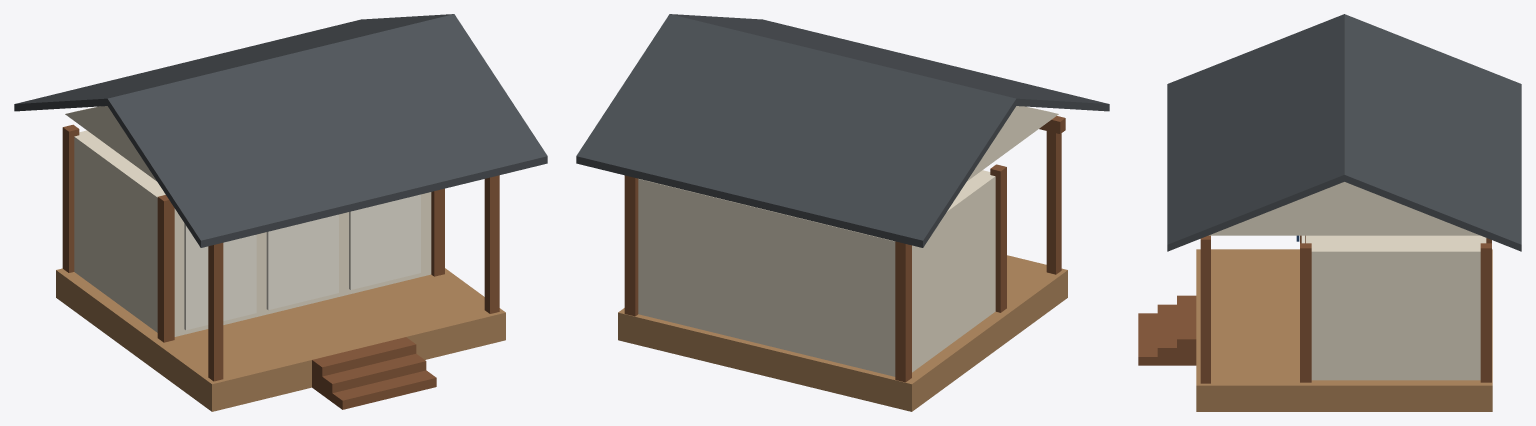
3 views of the same model, side by side, from view 1: azimuth 30°, elevation 25°; view 2: azimuth 150°, elevation 25°; view 3: azimuth 270°, elevation 25° (orthographic). The views are drawn at different scales.
Visible parts, largest first — view 1: roof, floor, room, shoji_1, shoji_2, shoji_0, pillar_0_0, veranda_post_0, veranda_post_1, steps_3, steps_2, steps_1 (+3 smaller); view 2: roof, room, floor, pillar_0_1, veranda_post_0, pillar_1_1, gable_l, pillar_0_0; view 3: roof, room, floor, gable_r, pillar_1_0, pillar_1_1, veranda_post_1, steps_3, steps_2, steps_1.
Part boxes in pixels (x1,y1,x2,y2): roof: (14,14,547,247); floor: (56,268,505,411); room: (74,130,431,336); shoji_1: (266,214,338,310); shoji_2: (349,194,420,289); shoji_0: (184,223,256,330); pillar_0_0: (157,195,174,342); veranda_post_0: (208,243,223,381); veranda_post_1: (484,175,499,313); steps_3: (312,337,416,394); steps_2: (322,353,426,401); steps_1: (332,370,436,409); roof: (576,14,1109,247); room: (638,170,995,376); floor: (618,255,1067,411); pillar_0_1: (895,241,911,382); veranda_post_0: (1046,131,1061,274); pillar_1_1: (624,175,638,316); gable_l: (967,106,1058,181); pillar_0_0: (990,164,1006,312); roof: (1167,14,1521,251); room: (1305,235,1486,380); floor: (1196,249,1492,411); gable_r: (1209,182,1479,235); pillar_1_0: (1300,243,1311,382); pillar_1_1: (1480,243,1491,382); veranda_post_1: (1200,251,1210,383); steps_3: (1177,295,1196,365); steps_2: (1157,304,1176,365); steps_1: (1138,313,1157,365).
Bounding box in the file's own units: 5.9 × 4.27 × 5.95.
